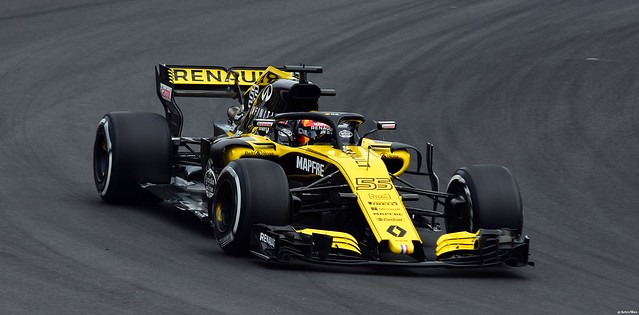F1 Car: (89, 61, 540, 279)
